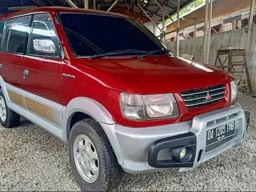plat: (208, 119, 236, 145)
